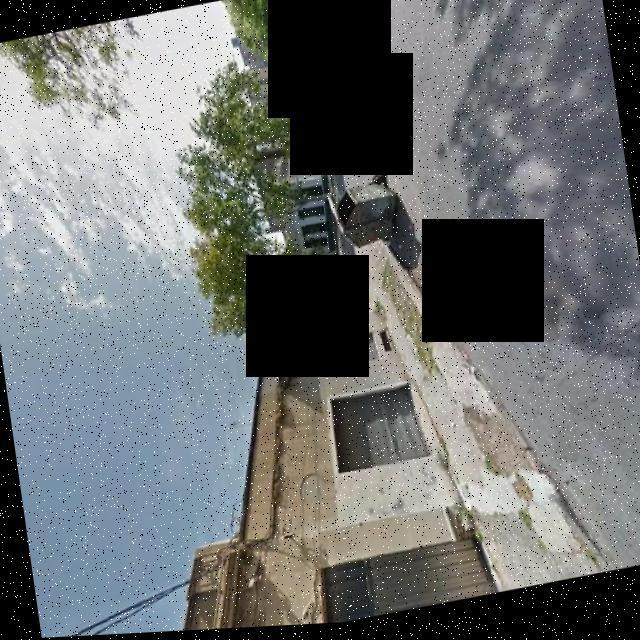bin: (326, 169, 411, 267)
